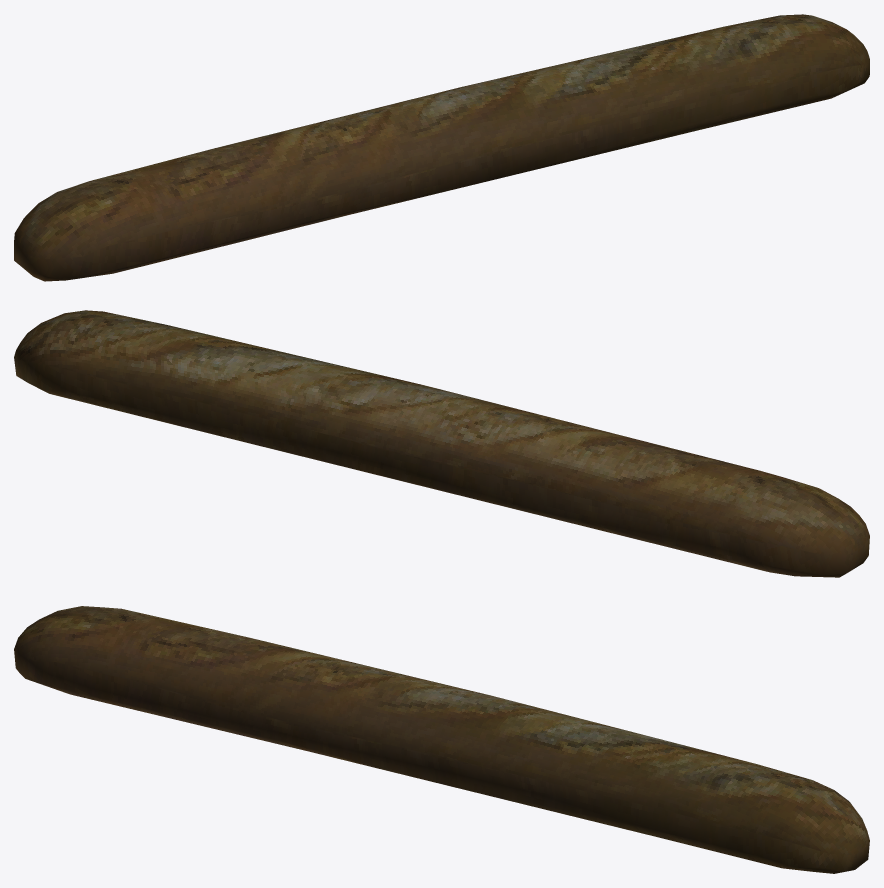
The model's file is melee_stale_baguette_mx_1.glb.
3 views of the same model, one above another, from view 1: azimuth 30°, elevation 25°; view 2: azimuth 150°, elevation 25°; view 3: azimuth 330°, elevation 25° (orthographic).
Visible parts, largest first — view 1: melee_stale_baguette_mx_1; view 2: melee_stale_baguette_mx_1; view 3: melee_stale_baguette_mx_1.
Boxes of the visible parts, bbox=[...] form: melee_stale_baguette_mx_1: bbox=[14, 14, 869, 281]; melee_stale_baguette_mx_1: bbox=[14, 310, 869, 577]; melee_stale_baguette_mx_1: bbox=[14, 606, 869, 873].
Bounding box in the file's own units: 0.7769 × 0.0678 × 0.093.
1 material, 1 textured.
